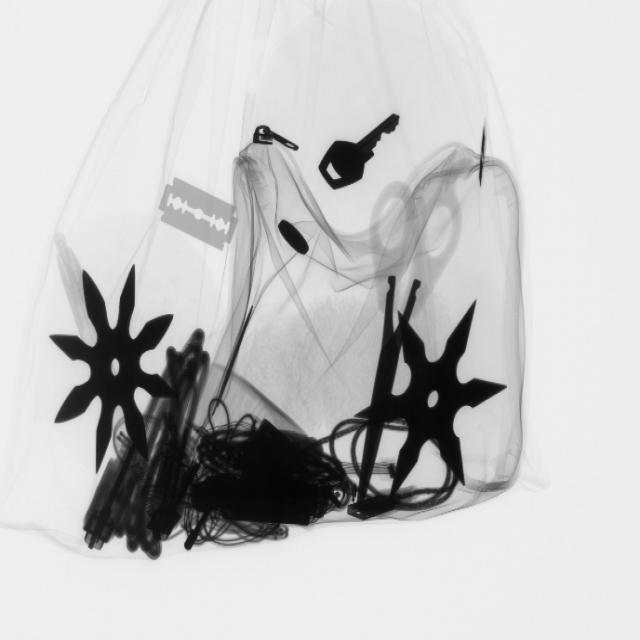BLADE: (157, 173, 245, 259), (471, 119, 497, 189)
SHURIKEN: (367, 286, 506, 500), (52, 261, 183, 474)
